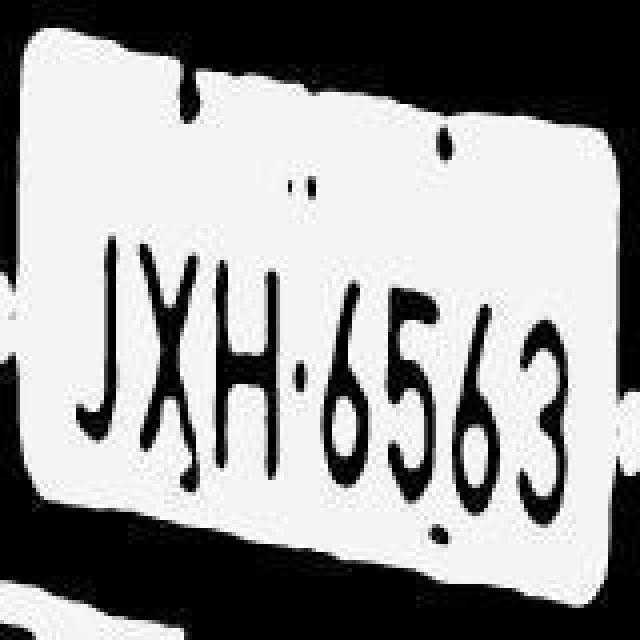3: (516, 288, 588, 552)
5: (384, 274, 448, 526)
6: (316, 256, 380, 512), (452, 290, 516, 542)
H: (214, 226, 290, 494)
J: (58, 182, 134, 450)
X: (140, 178, 212, 446)
